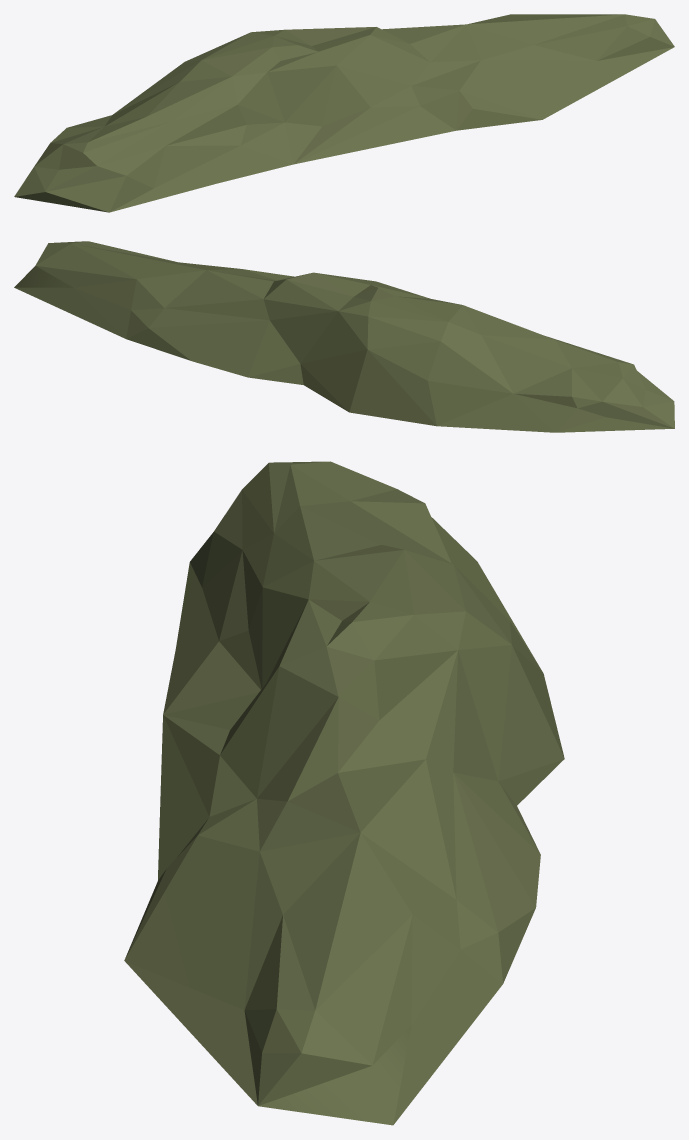
Rendered from apoc_SM_Env_GrassBlob_15.gltf.
The picture shows the model from 3 angles, top to bottom: view 1: azimuth 30°, elevation 25°; view 2: azimuth 150°, elevation 25°; view 3: azimuth 270°, elevation 25°; orthographic projection. The views are drawn at different scales.
Parts seen in each view (by area): view 1: SM_Env_GrassBlob_15; view 2: SM_Env_GrassBlob_15; view 3: SM_Env_GrassBlob_15.
Boxes of the visible parts, bbox=[...] form: SM_Env_GrassBlob_15: bbox=[14, 14, 674, 212]; SM_Env_GrassBlob_15: bbox=[14, 241, 674, 432]; SM_Env_GrassBlob_15: bbox=[124, 461, 564, 1125].
Size of the model in its own units: 4.27 by 0.5578 by 1.26.
Materials: 1 (1 with a texture image).
